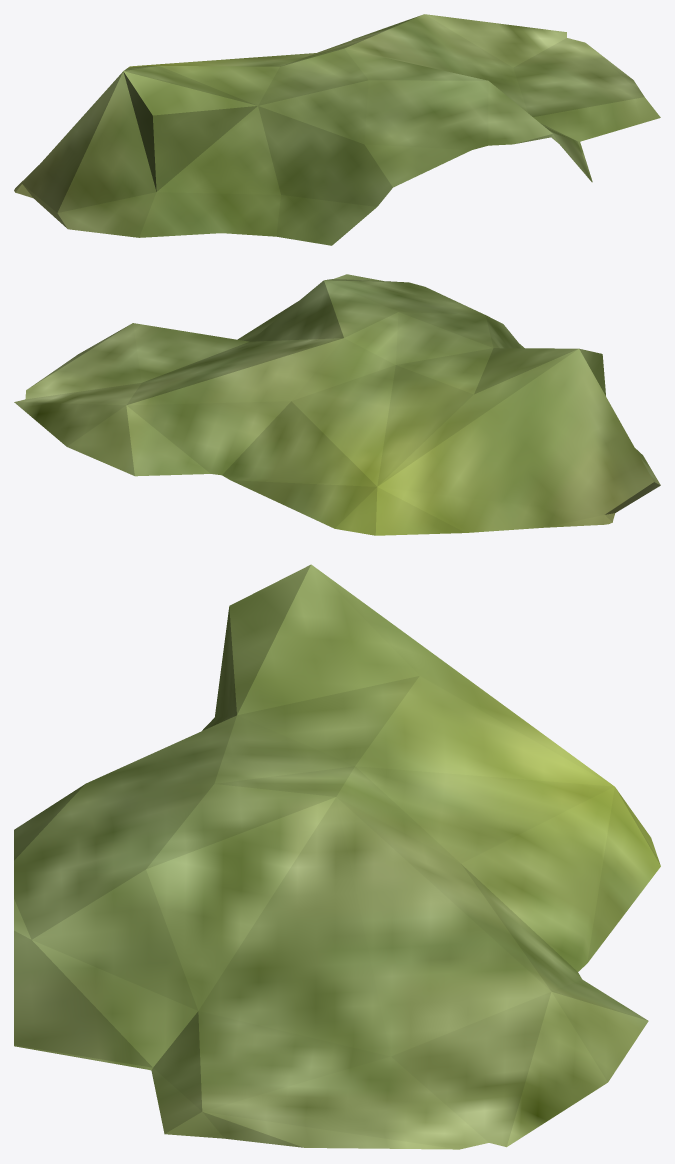
The picture shows the model from 3 angles, top to bottom: view 1: azimuth 30°, elevation 25°; view 2: azimuth 150°, elevation 25°; view 3: azimuth 270°, elevation 25°; orthographic projection. The views are drawn at different scales.
Size of the model in its own units: 1.17 by 0.2523 by 0.7322.
1 material, 1 textured.
